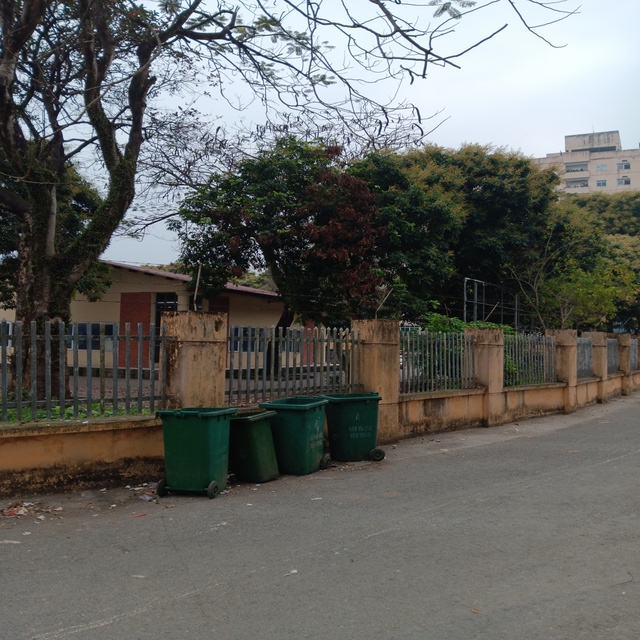thungrac: (151, 402, 231, 492), (274, 397, 332, 478), (326, 388, 383, 469), (226, 410, 279, 488)
